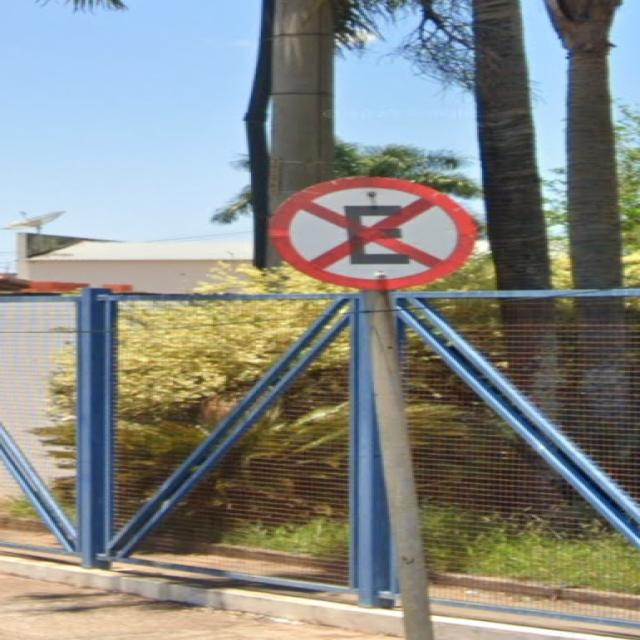no parking: (236, 163, 504, 306)
